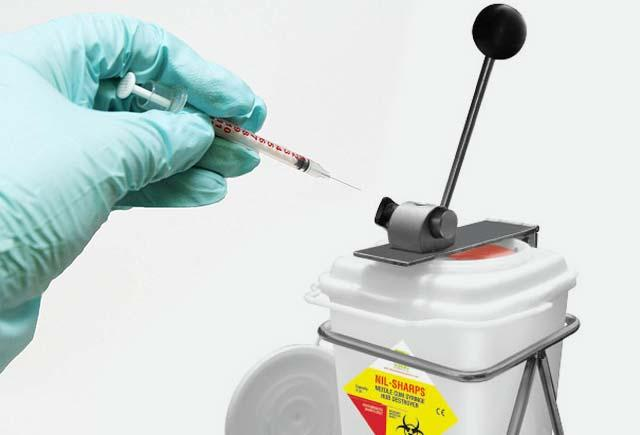Glove: (0, 15, 265, 371)
Syringe: (211, 117, 359, 189)
